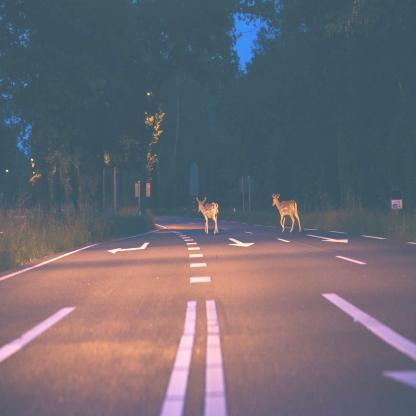Deer: (271, 192, 302, 234), (195, 197, 220, 235)
